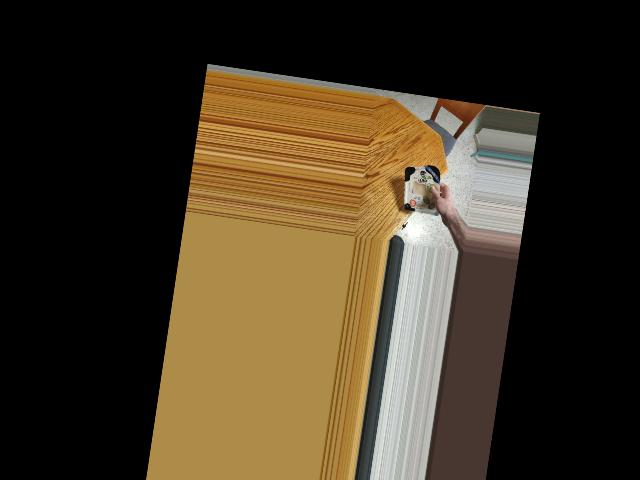cheese: (402, 160, 445, 222)
